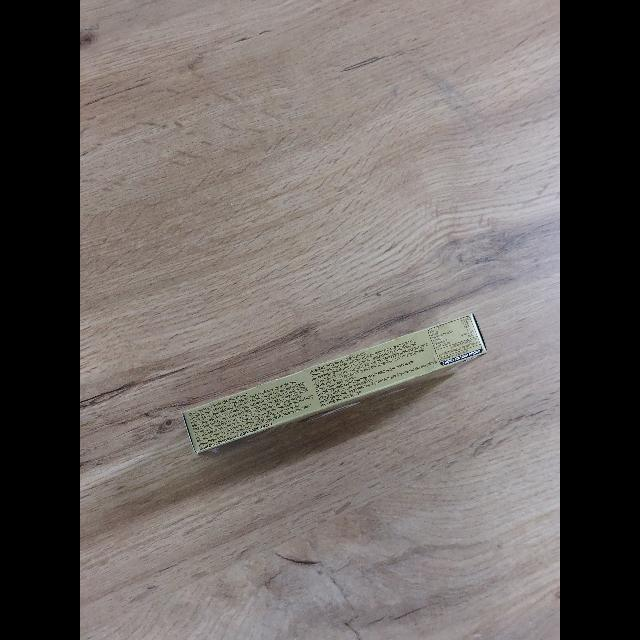banh_toppo_socola: (182, 313, 488, 454), (304, 400, 305, 403)
